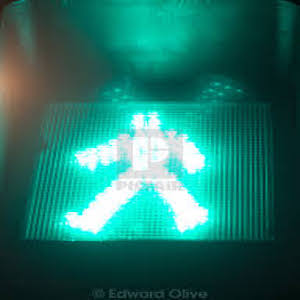green: (67, 103, 227, 249)
